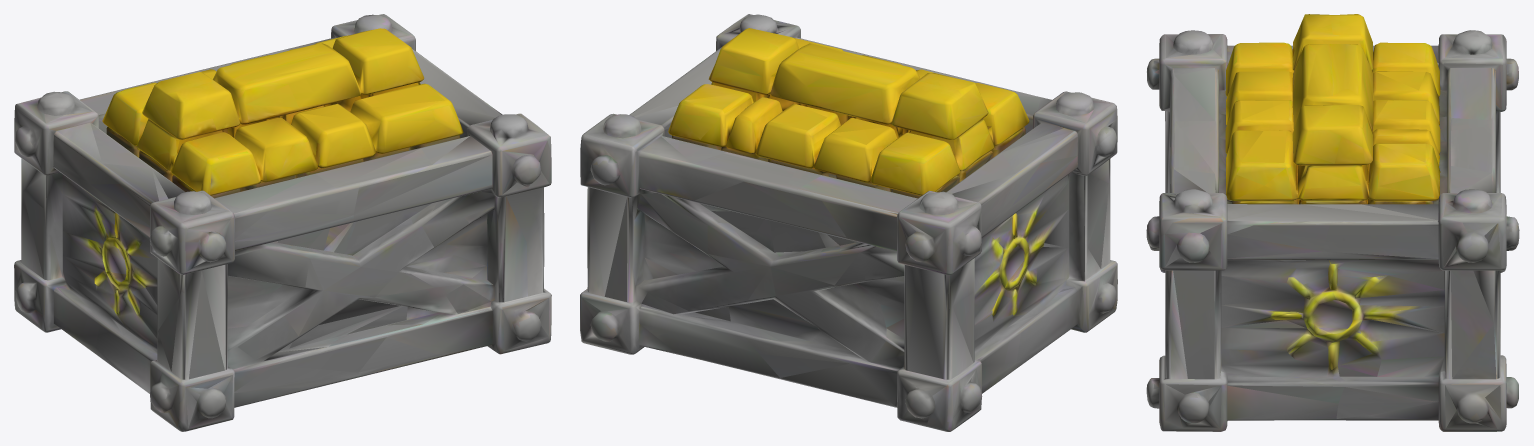
The model's file is prop_forge_crate.fbx.
The picture shows the model from 3 angles, left to right: view 1: azimuth 30°, elevation 25°; view 2: azimuth 150°, elevation 25°; view 3: azimuth 270°, elevation 25°; orthographic projection. The views are drawn at different scales.
Visible parts, largest first — view 1: tripo_node_1f977ddd-7a2d-4bdc-b9e8-f46dff50ac1d; view 2: tripo_node_1f977ddd-7a2d-4bdc-b9e8-f46dff50ac1d; view 3: tripo_node_1f977ddd-7a2d-4bdc-b9e8-f46dff50ac1d.
Boxes of the visible parts, bbox=[...] form: tripo_node_1f977ddd-7a2d-4bdc-b9e8-f46dff50ac1d: bbox=[14, 14, 551, 431]; tripo_node_1f977ddd-7a2d-4bdc-b9e8-f46dff50ac1d: bbox=[580, 14, 1117, 431]; tripo_node_1f977ddd-7a2d-4bdc-b9e8-f46dff50ac1d: bbox=[1146, 14, 1519, 431].
Bounding box in the file's own units: 0.98 × 0.6246 × 0.7809.
